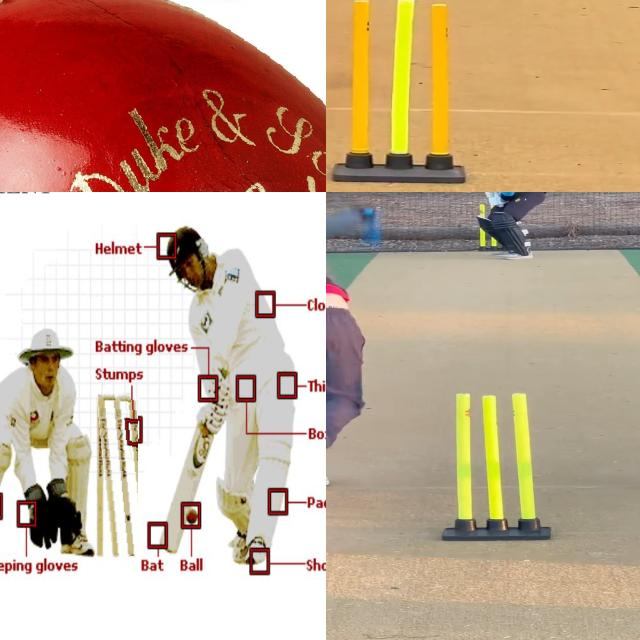Cricket ball: (0, 0, 326, 192), (183, 503, 200, 532)
Stumps: (329, 0, 470, 184), (445, 392, 555, 540), (96, 391, 138, 556)
